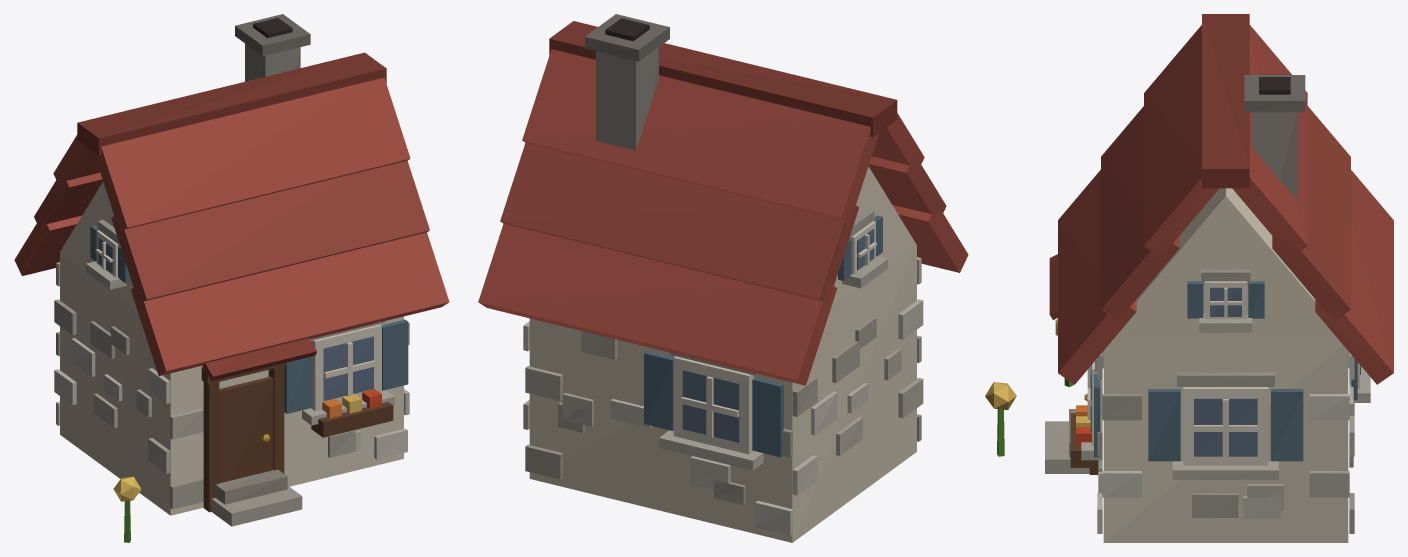
The model's file is maison-automne.glb.
3 views of the same model, side by side, from view 1: azimuth 30°, elevation 25°; view 2: azimuth 150°, elevation 25°; view 3: azimuth 270°, elevation 25° (orthographic). The views are drawn at different scales.
Bounding box in the file's own units: 5.76 × 6.5 × 4.77.
